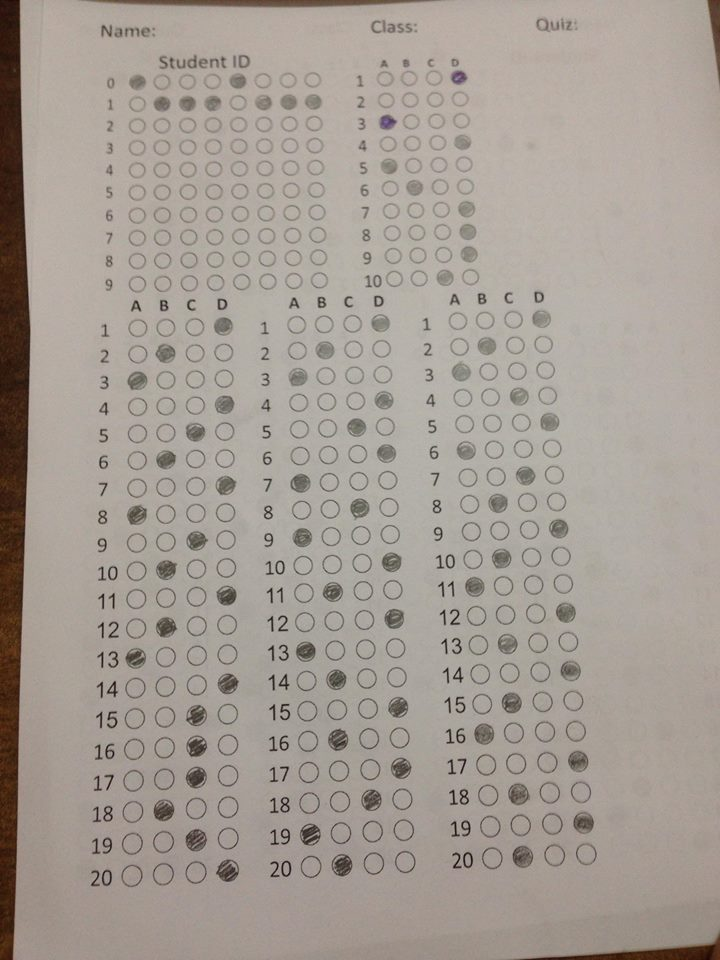not-c: (480, 844, 504, 871), (542, 841, 566, 868), (574, 840, 598, 867), (183, 859, 207, 885), (150, 861, 174, 887), (119, 862, 143, 888), (298, 853, 322, 879), (361, 849, 385, 875), (392, 849, 416, 875), (391, 817, 415, 843), (390, 786, 414, 812), (360, 818, 384, 844), (327, 819, 351, 845), (327, 788, 351, 814), (296, 789, 320, 815), (296, 758, 320, 784), (327, 757, 351, 783), (357, 757, 381, 783), (540, 811, 564, 836), (508, 811, 532, 836), (537, 780, 561, 805), (569, 779, 593, 804), (535, 749, 559, 774), (503, 751, 527, 776), (501, 719, 525, 744), (532, 719, 556, 744), (563, 717, 587, 742), (561, 688, 585, 713), (215, 642, 238, 666), (185, 643, 208, 667), (154, 644, 177, 668), (153, 673, 176, 697), (185, 673, 208, 697), (123, 675, 146, 699), (123, 706, 146, 730), (152, 704, 175, 728), (215, 702, 238, 726), (216, 732, 239, 756), (152, 736, 175, 760), (121, 736, 144, 760), (121, 768, 144, 792), (152, 767, 175, 791), (216, 763, 239, 787), (216, 795, 239, 819), (184, 796, 207, 820), (121, 799, 144, 823), (120, 831, 143, 855), (151, 829, 174, 853), (216, 826, 239, 850), (357, 726, 380, 750), (387, 725, 410, 749), (295, 729, 318, 753), (295, 698, 318, 722), (325, 697, 348, 721), (356, 696, 379, 720), (355, 666, 378, 690), (384, 665, 407, 689), (294, 668, 317, 692), (324, 638, 347, 662), (321, 609, 344, 633), (293, 610, 316, 634), (352, 608, 375, 632), (354, 637, 377, 661), (384, 636, 407, 660), (381, 577, 404, 601), (351, 579, 374, 603), (292, 581, 315, 605), (291, 553, 314, 577), (320, 552, 343, 576), (350, 551, 373, 575), (349, 524, 372, 548), (378, 522, 401, 546), (377, 495, 400, 519), (318, 524, 341, 548), (318, 496, 341, 520), (290, 498, 313, 522), (317, 470, 340, 494), (347, 468, 370, 492), (375, 469, 398, 493), (346, 441, 369, 465), (316, 442, 339, 466), (288, 444, 311, 468), (287, 417, 310, 441), (315, 415, 338, 439), (373, 415, 396, 439), (343, 388, 366, 412), (315, 389, 338, 413), (286, 390, 309, 414), (476, 783, 499, 807), (478, 814, 501, 838), (530, 689, 553, 713), (529, 660, 552, 684), (497, 660, 520, 684), (527, 631, 550, 655), (556, 629, 579, 653), (126, 422, 148, 444), (154, 422, 176, 444), (213, 420, 235, 442), (213, 446, 235, 468), (184, 447, 206, 469), (125, 448, 147, 470), (125, 477, 147, 499), (154, 476, 176, 498), (184, 475, 206, 497), (154, 502, 176, 524), (184, 502, 206, 524), (214, 501, 236, 523), (214, 528, 236, 550), (154, 531, 176, 553), (125, 531, 147, 553), (125, 559, 147, 581), (185, 557, 207, 579), (214, 556, 236, 578), (184, 585, 206, 607), (154, 586, 176, 608), (124, 587, 146, 609), (124, 617, 146, 639), (185, 614, 207, 636), (215, 613, 237, 635), (314, 364, 336, 386), (343, 364, 365, 386), (371, 363, 393, 385), (370, 337, 392, 359), (342, 338, 364, 360), (285, 339, 307, 361), (285, 314, 307, 336), (312, 313, 334, 335), (340, 313, 362, 335), (446, 309, 468, 331), (474, 309, 496, 331), (502, 309, 524, 331), (503, 333, 525, 355), (532, 332, 554, 354), (447, 335, 469, 357), (477, 359, 499, 381), (506, 359, 528, 381), (534, 358, 556, 380), (536, 384, 558, 406), (478, 385, 500, 407), (451, 386, 473, 408), (453, 412, 475, 434), (456, 466, 478, 488), (484, 464, 506, 486), (483, 438, 505, 460), (480, 412, 502, 434), (509, 411, 531, 433), (512, 438, 534, 460), (540, 436, 562, 458), (543, 463, 565, 485), (515, 491, 537, 513), (545, 490, 567, 512), (458, 493, 480, 515), (459, 520, 481, 542), (488, 519, 510, 541), (518, 518, 540, 540), (520, 546, 542, 568), (549, 545, 571, 567), (461, 548, 483, 570), (492, 574, 514, 596), (522, 573, 544, 595), (552, 572, 574, 594), (524, 602, 546, 624), (494, 603, 516, 625), (464, 604, 486, 626), (466, 633, 488, 655), (468, 662, 490, 684), (470, 692, 492, 714), (474, 753, 496, 775), (127, 317, 148, 338), (154, 317, 175, 338), (184, 316, 205, 337), (184, 342, 205, 363), (213, 341, 234, 362), (126, 343, 147, 364), (154, 369, 175, 390), (184, 368, 205, 389), (213, 368, 234, 389), (184, 394, 205, 415), (155, 395, 176, 416), (126, 396, 147, 417), (126, 94, 146, 114), (126, 115, 146, 135), (126, 137, 146, 157), (126, 160, 146, 180), (126, 182, 146, 202), (126, 205, 146, 225), (127, 227, 147, 247), (127, 250, 147, 270), (127, 274, 147, 294), (151, 273, 171, 293), (152, 250, 172, 270), (152, 227, 172, 247), (152, 205, 172, 225), (151, 182, 171, 202), (151, 160, 171, 180), (151, 137, 171, 157), (151, 115, 171, 135), (176, 114, 196, 134), (177, 137, 197, 157), (177, 71, 197, 91), (201, 70, 221, 90), (151, 71, 171, 91), (253, 70, 273, 90), (277, 70, 297, 90), (302, 69, 322, 89), (227, 92, 247, 112), (202, 115, 222, 135), (228, 114, 248, 134), (253, 114, 273, 134), (278, 113, 298, 133), (303, 113, 323, 133), (304, 135, 324, 155), (177, 159, 197, 179), (177, 182, 197, 202), (178, 204, 198, 224), (178, 227, 198, 247), (178, 249, 198, 269), (178, 273, 198, 293), (205, 272, 225, 292), (205, 249, 225, 269), (204, 227, 224, 247), (204, 204, 224, 224), (203, 182, 223, 202), (203, 158, 223, 178), (229, 158, 249, 178), (229, 180, 249, 200), (230, 204, 250, 224), (230, 226, 250, 246), (231, 248, 251, 268), (231, 271, 251, 291), (257, 272, 277, 291), (283, 271, 303, 290), (282, 249, 302, 268), (281, 225, 301, 244), (281, 203, 301, 222), (281, 180, 301, 199), (280, 157, 300, 176), (304, 158, 324, 177), (306, 180, 326, 199), (307, 202, 327, 221), (307, 224, 327, 243), (308, 247, 328, 266), (309, 269, 329, 288), (279, 136, 300, 154), (253, 136, 274, 154), (228, 137, 249, 155), (202, 137, 223, 155), (254, 158, 275, 176), (254, 181, 275, 199), (255, 204, 276, 222), (255, 226, 276, 244), (256, 248, 277, 266), (374, 69, 394, 87), (398, 69, 418, 87), (424, 68, 444, 86), (376, 91, 396, 109), (400, 90, 420, 108), (425, 90, 445, 108), (450, 89, 470, 107), (451, 111, 471, 129), (427, 112, 447, 130), (401, 111, 421, 129), (402, 133, 422, 151), (378, 134, 398, 152), (427, 133, 447, 151), (428, 155, 448, 173), (403, 156, 423, 174), (453, 154, 473, 172), (454, 177, 474, 195), (429, 177, 449, 195), (379, 179, 399, 197), (381, 201, 401, 219), (381, 223, 401, 241), (382, 246, 402, 264), (383, 269, 403, 287), (408, 269, 428, 287), (407, 246, 427, 264), (406, 223, 426, 241), (405, 201, 425, 219), (430, 200, 450, 218), (432, 222, 452, 240), (433, 245, 453, 263), (460, 267, 480, 285)
taken-c: (214, 857, 240, 884), (328, 852, 354, 879), (296, 821, 322, 848), (183, 733, 209, 758), (182, 765, 208, 790), (149, 797, 175, 822), (183, 827, 209, 852), (358, 787, 382, 812), (510, 843, 534, 868), (571, 810, 595, 835), (506, 781, 530, 806), (565, 748, 589, 773), (388, 756, 412, 781), (326, 727, 350, 752), (386, 694, 410, 719), (472, 721, 496, 746), (499, 690, 523, 715), (558, 659, 582, 684), (324, 667, 348, 692), (293, 638, 317, 663), (381, 606, 405, 631), (495, 631, 519, 656), (553, 599, 577, 624), (320, 579, 344, 604), (379, 549, 403, 574), (488, 545, 512, 570), (463, 573, 487, 598), (289, 525, 313, 550), (348, 495, 372, 520), (289, 470, 313, 495), (123, 646, 147, 670), (215, 671, 239, 695), (184, 703, 208, 727), (125, 369, 148, 392), (374, 441, 397, 464), (344, 415, 367, 438), (372, 388, 395, 411), (286, 365, 309, 388), (546, 516, 569, 539), (485, 492, 508, 515), (513, 464, 536, 487), (454, 438, 477, 461), (537, 410, 560, 433), (507, 385, 530, 408), (449, 360, 472, 383), (475, 335, 498, 358), (530, 308, 553, 331), (313, 339, 336, 362), (153, 558, 177, 580), (214, 584, 238, 606), (153, 616, 177, 638), (183, 421, 206, 442), (154, 448, 177, 469), (213, 474, 236, 495), (125, 504, 148, 525), (184, 530, 207, 551), (369, 312, 391, 333), (212, 393, 234, 414), (154, 342, 176, 363), (211, 316, 233, 337), (456, 221, 477, 241), (458, 243, 479, 263), (434, 267, 455, 287), (126, 72, 147, 91), (227, 71, 248, 90), (253, 92, 274, 111), (277, 92, 298, 111), (303, 92, 324, 111), (202, 94, 223, 113), (175, 94, 196, 113), (151, 94, 172, 113), (376, 112, 397, 131), (448, 67, 469, 86), (451, 132, 472, 151), (377, 156, 398, 175), (403, 178, 424, 197), (456, 199, 477, 218)
